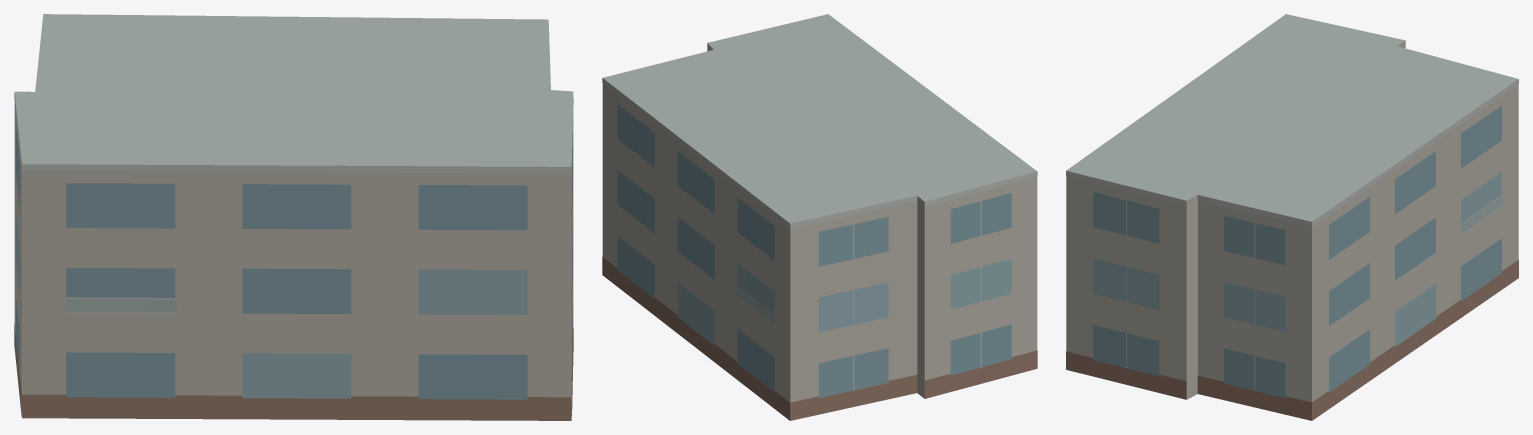
Rendered from survey-upis-32597037.glb.
The picture shows the model from 3 angles, left to right: view 1: azimuth 30°, elevation 25°; view 2: azimuth 150°, elevation 25°; view 3: azimuth 270°, elevation 25°; orthographic projection. The views are drawn at different scales.
Parts seen in each view (by area): view 1: survey-upis-32597037.tmp; view 2: survey-upis-32597037.tmp; view 3: survey-upis-32597037.tmp.
Part boxes in pixels (x1,y1,x2,y2): survey-upis-32597037.tmp: [14, 14, 573, 420]; survey-upis-32597037.tmp: [602, 14, 1037, 420]; survey-upis-32597037.tmp: [1066, 14, 1518, 420].
Bounding box in the file's own units: 20.49 × 9.15 × 18.87.
